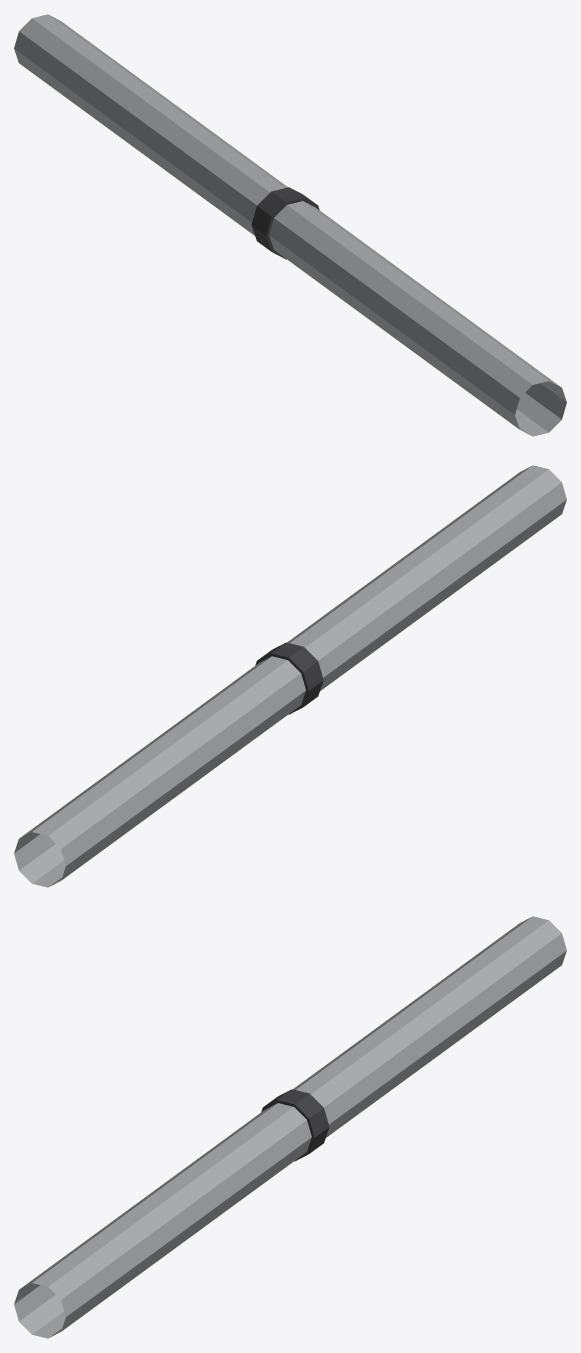
The model's file is SmallPipe03T2.fbx.
3 views of the same model, one above another, from view 1: azimuth 30°, elevation 25°; view 2: azimuth 150°, elevation 25°; view 3: azimuth 330°, elevation 25° (orthographic).
Parts seen in each view (by area): view 1: SmallPipe03T2; view 2: SmallPipe03T2; view 3: SmallPipe03T2.
Boxes of the visible parts, bbox=[...] form: SmallPipe03T2: bbox=[14, 14, 566, 436]; SmallPipe03T2: bbox=[14, 465, 566, 887]; SmallPipe03T2: bbox=[14, 916, 566, 1338].
Size of the model in its own units: 15.68 by 14.91 by 237.
